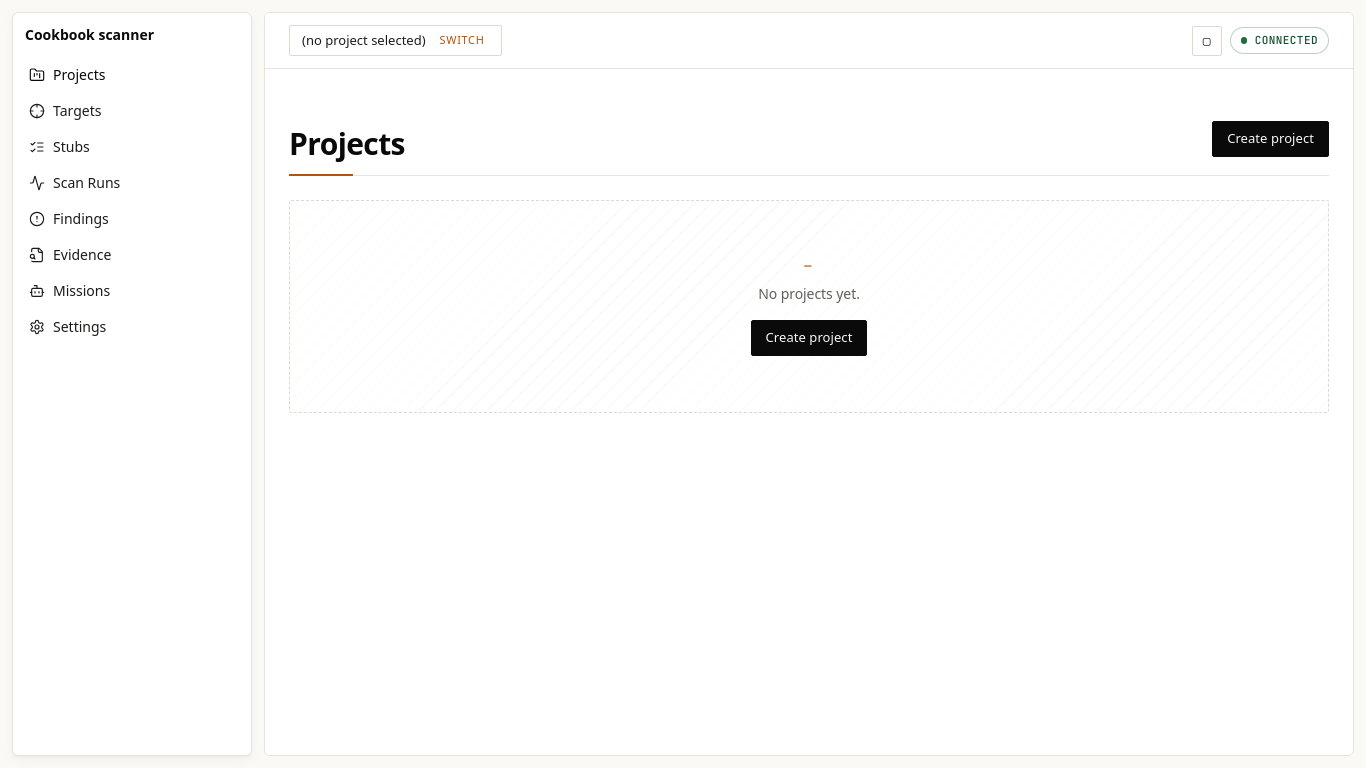
Test case: end-to-end · settings › navigates from the sidebar to /settings and renders all 6 status rows
Click the link "Settings": (68,326) [29,317,106,336]
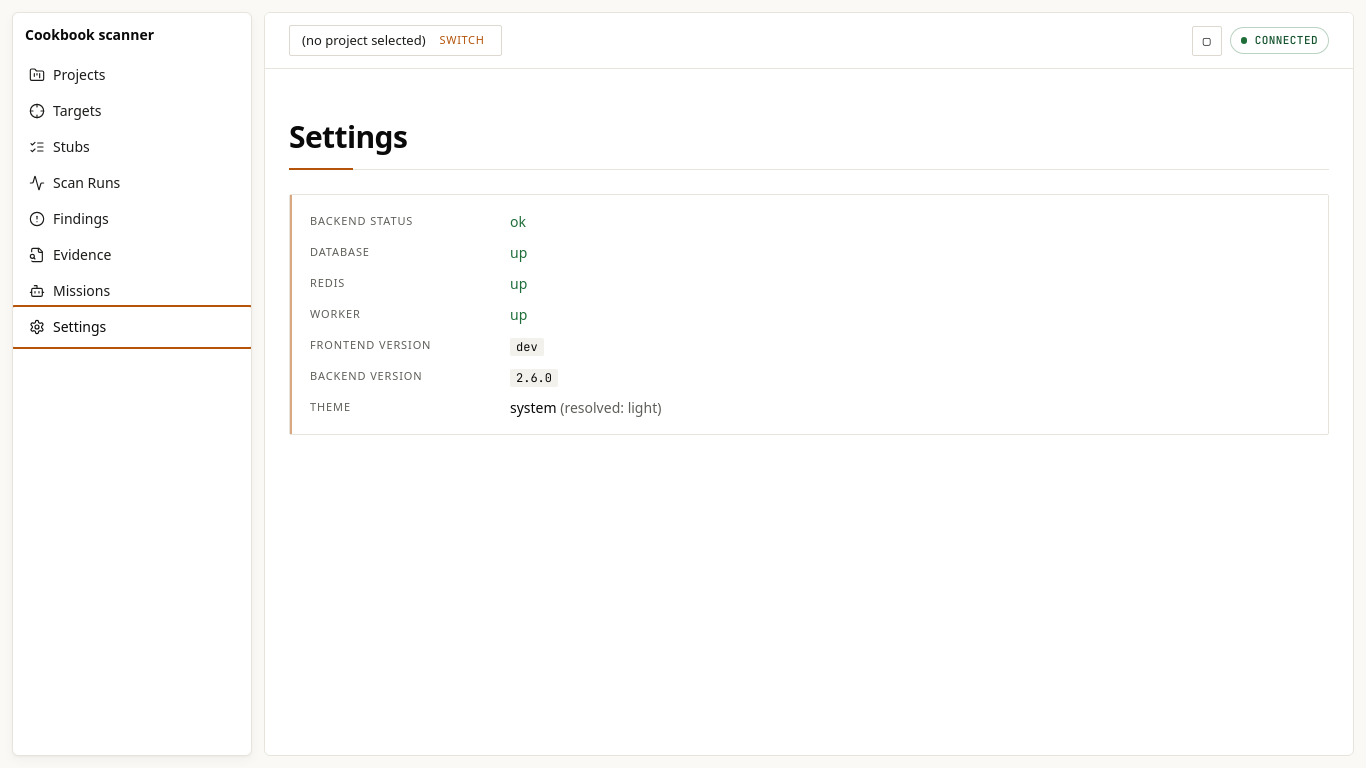
Expected: the text with test id "settings-backend-status" reads "ok", [510,212,526,230]
Expected: the text with test id "settings-db-status" reads "up", [510,242,527,262]
Expected: the text with test id "settings-redis-status" reads "up", [510,274,527,292]
